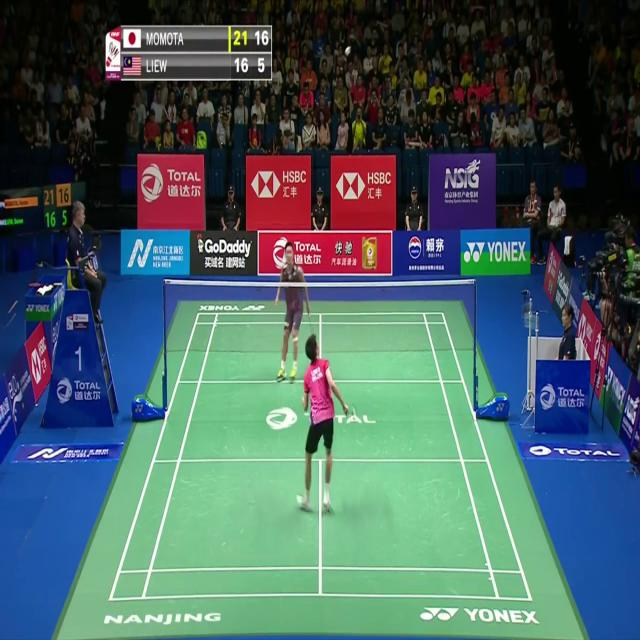Shuttlecock: (344, 44, 351, 56)
